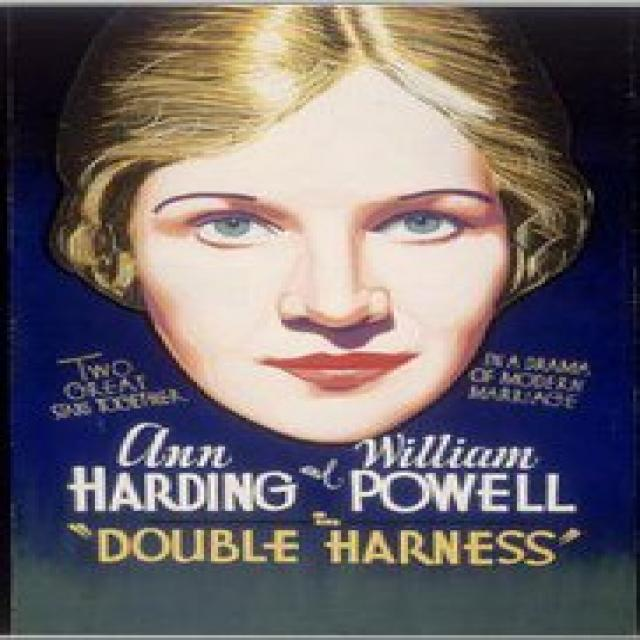movie-judul: (67, 513, 593, 575)
picture: (50, 7, 599, 446)
